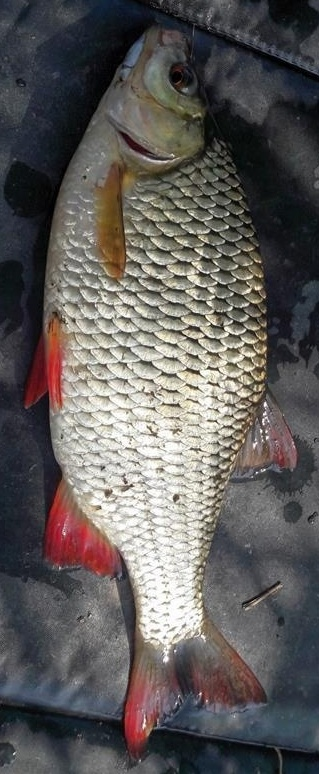Scardinius erythrophthalmus: (20, 20, 299, 754)
